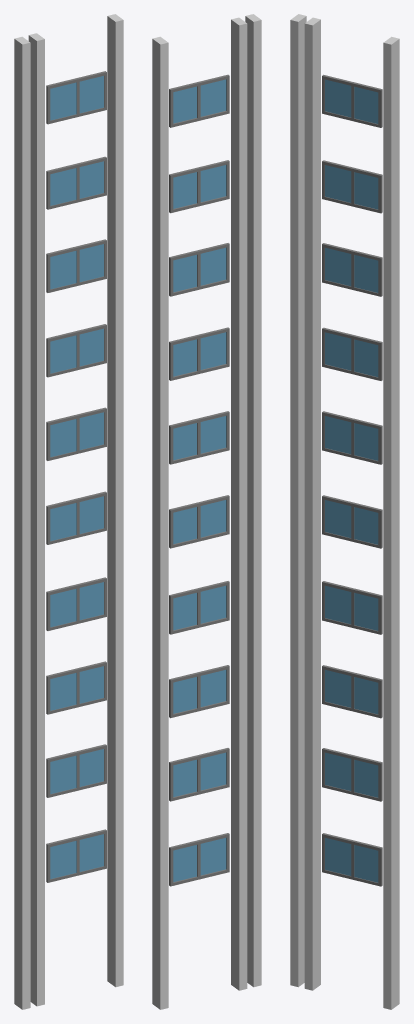
File: CuaSo1.glb
3 renders of one model, left to right at view 1: azimuth 30°, elevation 25°; view 2: azimuth 210°, elevation 25°; view 3: azimuth 330°, elevation 25°, orthographic.
Parts seen in each view (by area): view 1: Box175, Box025, Box026, Box197, Box193, Box199, Box195, Box194, Box200, Box196, Box198, Box191 (+11 smaller); view 2: Box026, Box175, Box025, Box197, Box193, Box199, Box200, Box195, Box194, Box196, Box191, Box198 (+11 smaller); view 3: Box175, Box026, Box025, Box197, Box193, Box199, Box200, Box195, Box194, Box196, Box191, Box198 (+11 smaller).
Part boxes in pixels (x1=…): Box175: x1=107, y1=14, x2=123, y2=987; Box025: x1=14, y1=36, x2=30, y2=1009; Box026: x1=28, y1=33, x2=44, y2=1006; Box197: x1=50, y1=582, x2=103, y2=627; Box193: x1=50, y1=244, x2=103, y2=289; Box199: x1=50, y1=749, x2=103, y2=793; Box195: x1=50, y1=412, x2=103, y2=457; Box194: x1=50, y1=328, x2=103, y2=373; Box200: x1=50, y1=834, x2=103, y2=878; Box196: x1=50, y1=496, x2=103, y2=541; Box198: x1=50, y1=666, x2=103, y2=710; Box191: x1=50, y1=76, x2=103, y2=120; Box026: x1=231, y1=17, x2=247, y2=990; Box175: x1=152, y1=36, x2=168, y2=1009; Box025: x1=245, y1=14, x2=261, y2=987; Box197: x1=173, y1=585, x2=226, y2=630; Box193: x1=173, y1=247, x2=226, y2=292; Box199: x1=173, y1=752, x2=226, y2=796; Box200: x1=173, y1=838, x2=226, y2=881; Box195: x1=173, y1=416, x2=226, y2=460; Box194: x1=173, y1=332, x2=226, y2=376; Box196: x1=173, y1=500, x2=226, y2=544; Box191: x1=173, y1=79, x2=226, y2=123; Box198: x1=173, y1=670, x2=226, y2=713; Box175: x1=383, y1=36, x2=399, y2=1009; Box026: x1=304, y1=17, x2=320, y2=990; Box025: x1=290, y1=14, x2=306, y2=987; Box197: x1=325, y1=585, x2=378, y2=630; Box193: x1=325, y1=247, x2=378, y2=292; Box199: x1=325, y1=752, x2=378, y2=797; Box200: x1=325, y1=837, x2=378, y2=882; Box195: x1=325, y1=416, x2=378, y2=460; Box194: x1=325, y1=332, x2=378, y2=376; Box196: x1=325, y1=500, x2=378, y2=544; Box191: x1=325, y1=79, x2=378, y2=123; Box198: x1=325, y1=669, x2=378, y2=714.
Size of the model in its own units: 3.76 by 34.33 by 0.528.
